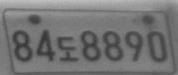0: (146, 30, 167, 62)
4: (35, 29, 55, 62)
8: (11, 29, 33, 62), (80, 29, 101, 61), (102, 30, 123, 61)
9: (124, 29, 144, 62)
도: (56, 35, 78, 61)
